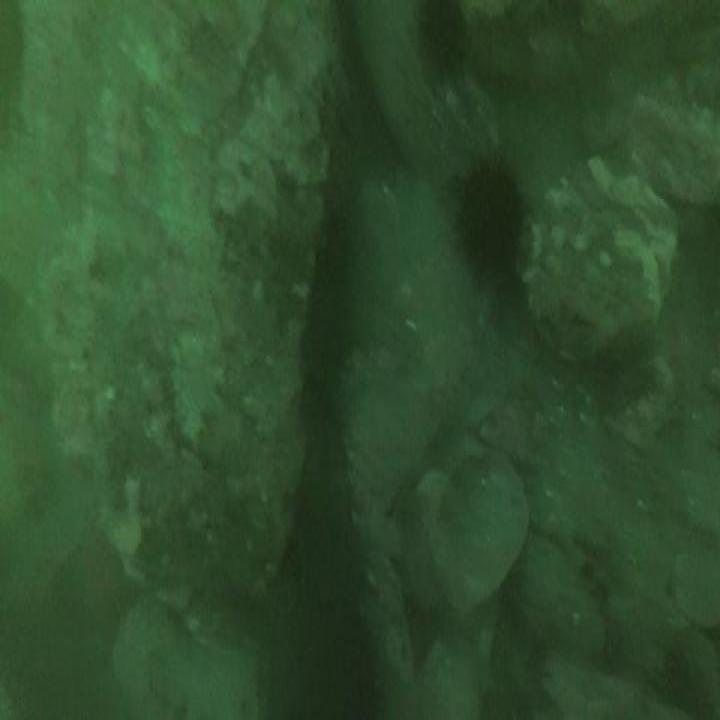echinus: (456, 164, 524, 279), (416, 2, 468, 82)
